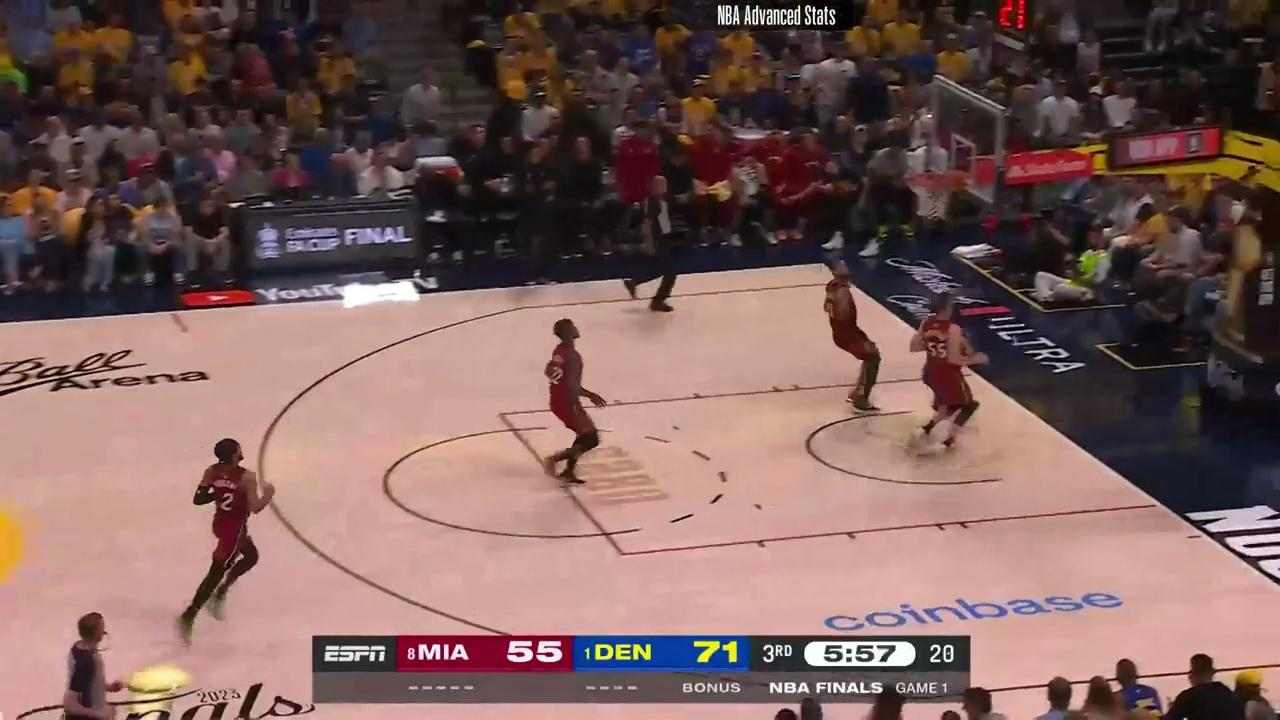Backboard: (927, 74, 1013, 214)
Ball: (927, 172, 950, 197)
Basket: (905, 169, 962, 217)
Person: (174, 437, 273, 635), (531, 319, 622, 488), (820, 262, 902, 423), (903, 300, 982, 462)
Referee: (629, 178, 693, 313), (59, 612, 123, 718)
Shot Clock: (991, 0, 1036, 58)
